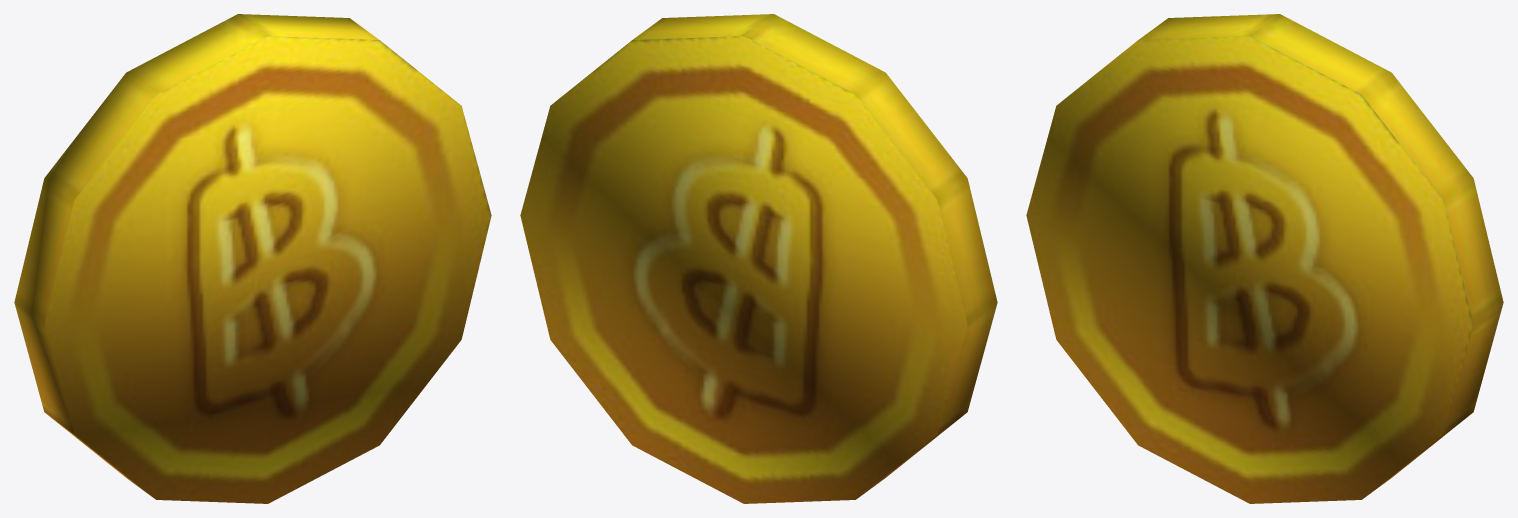
The picture shows the model from 3 angles, left to right: view 1: azimuth 30°, elevation 25°; view 2: azimuth 150°, elevation 25°; view 3: azimuth 330°, elevation 25°; orthographic projection.
Parts seen in each view (by area): view 1: Coin; view 2: Coin; view 3: Coin.
Boxes of the visible parts, box(x1,y1,x2,y2) form: Coin: box(14, 14, 491, 503); Coin: box(520, 14, 997, 503); Coin: box(1026, 14, 1503, 503).
Size of the model in its own units: 0.006 by 0.006 by 0.0007.
1 material, 1 textured.
